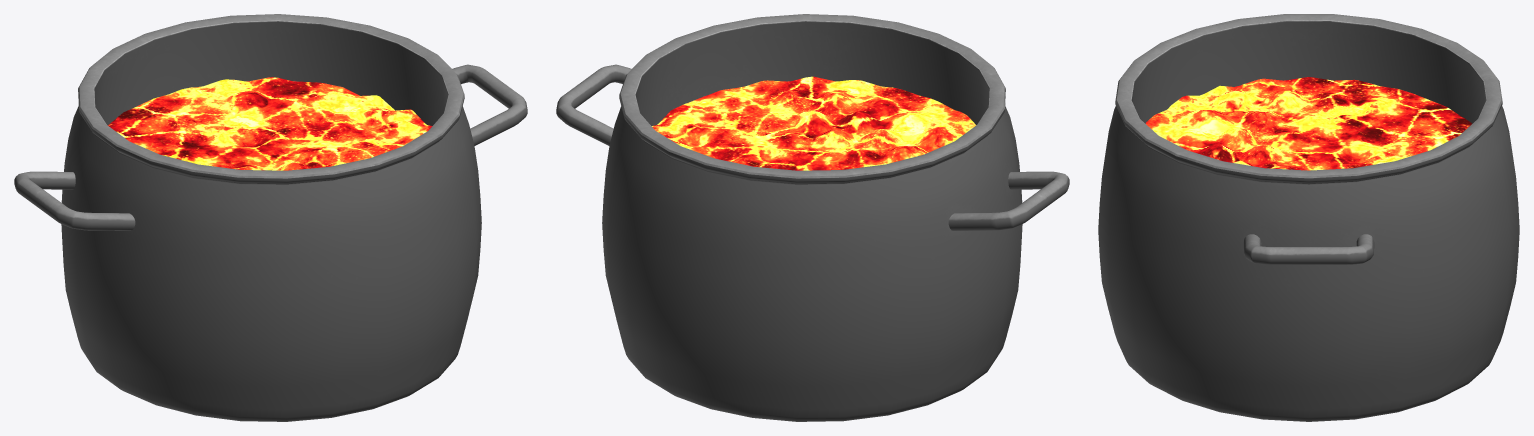
File: cookingpot.glb
3 views of the same model, side by side, from view 1: azimuth 30°, elevation 25°; view 2: azimuth 150°, elevation 25°; view 3: azimuth 270°, elevation 25° (orthographic).
Visible parts, largest first — view 1: pCylinder1, pDisc1, pCylinder2; view 2: pCylinder1, pDisc1, pCylinder2; view 3: pCylinder1, pDisc1, pCylinder2.
Part boxes in pixels (x1,y1,x2,y2): pCylinder1: (61,14,481,421); pDisc1: (108,77,432,170); pCylinder2: (14,64,527,230); pCylinder1: (602,14,1022,421); pDisc1: (651,76,976,170); pCylinder2: (556,64,1069,230); pCylinder1: (1098,14,1519,421); pDisc1: (1145,77,1471,170); pCylinder2: (1243,234,1374,264).
Bounding box in the file's own units: 9.38 × 4.97 × 7.29.
1 material, 1 textured.
